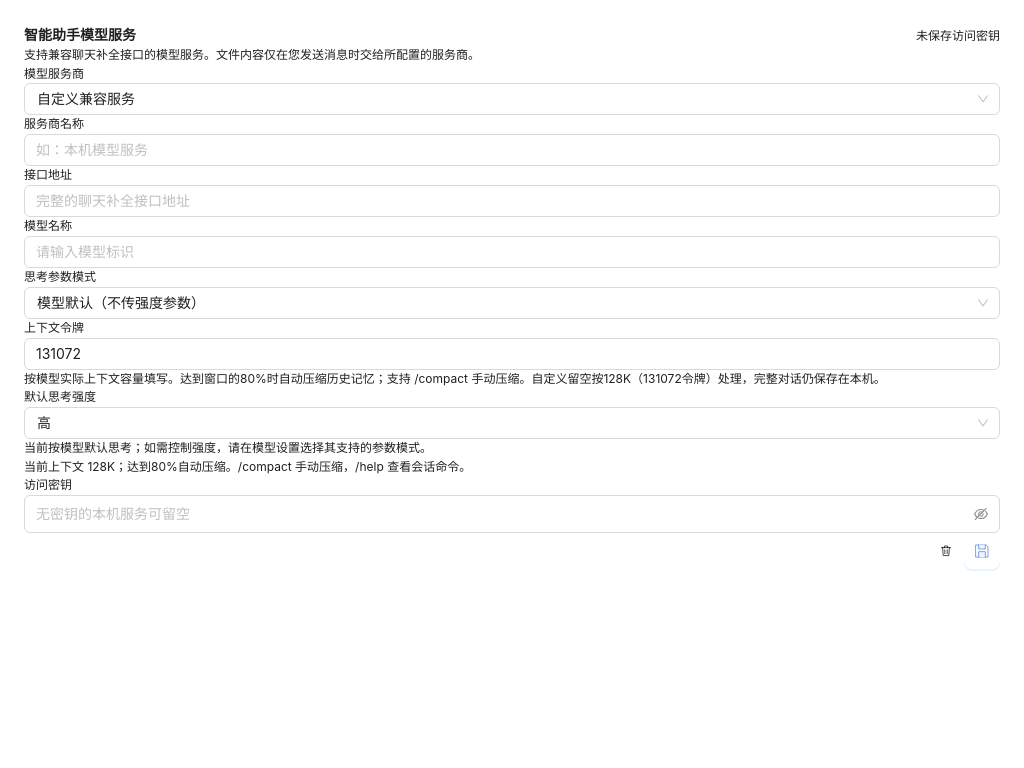
Test: 智能助手设置同步 › 保存失败时显示错误并保留表单输入
Type "临时服务" into the field named "模型服务商名称".
click(512, 150); type("临时服务")  # box [24,134,1000,166]
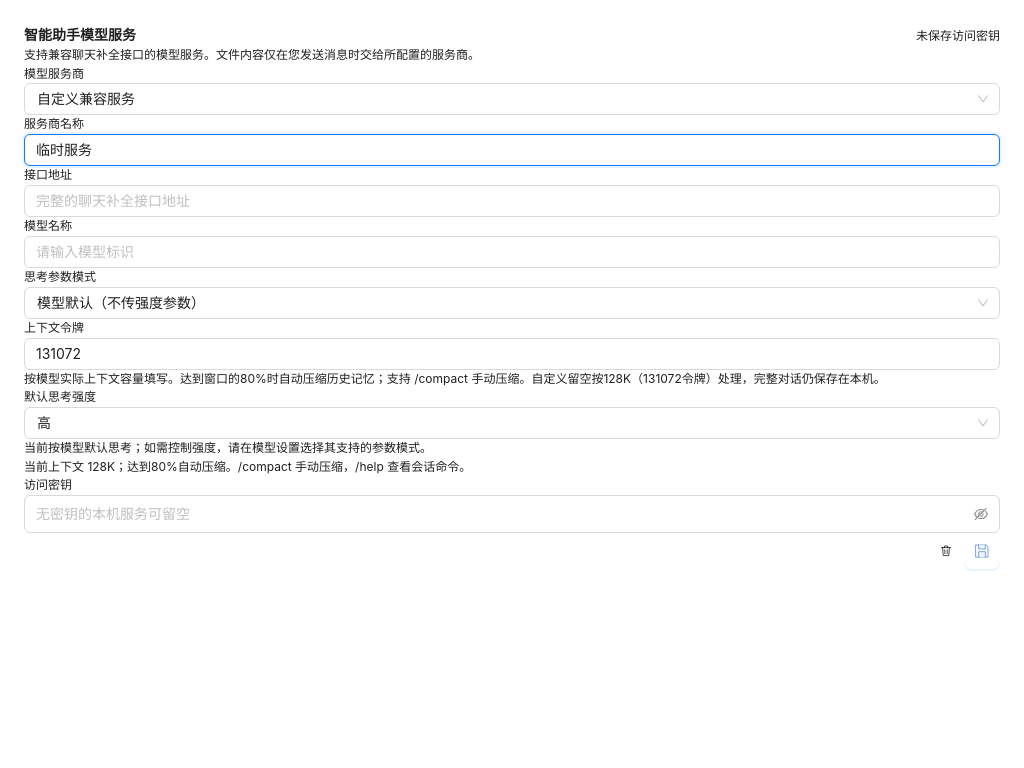
Click the button named "保存模型设置".
click(982, 551)  # box [964,533,1000,569]
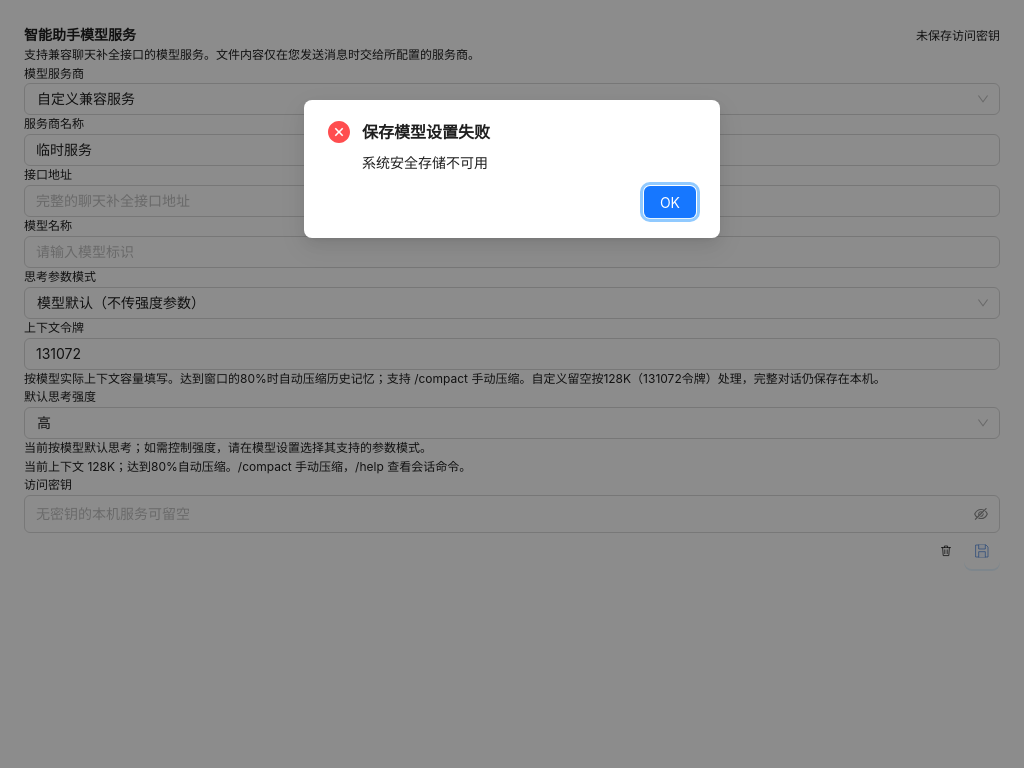
Check: the text "系统安全存储不可用" is shown, box [362,154,488,171]
